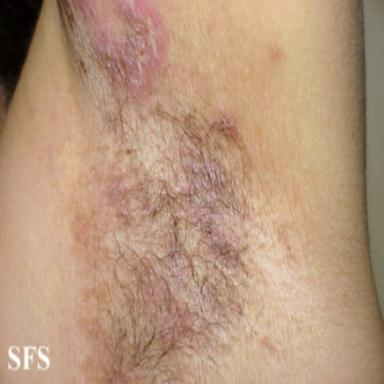Hailey-Hailey-Disease: (60, 0, 165, 101)
